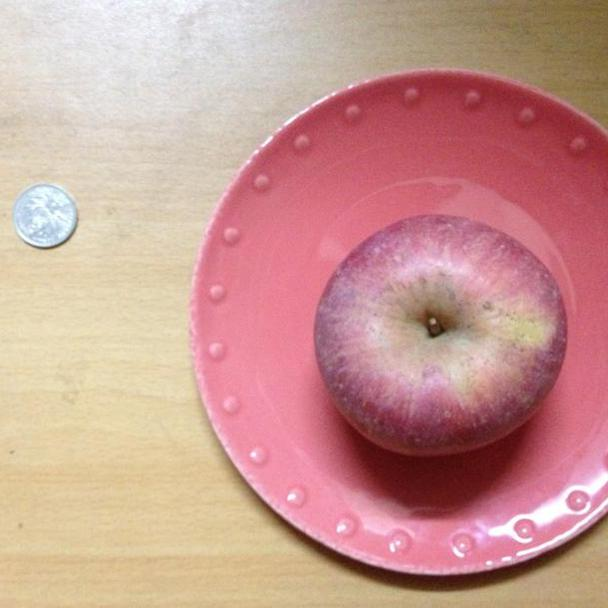apple: (313, 214, 576, 455)
